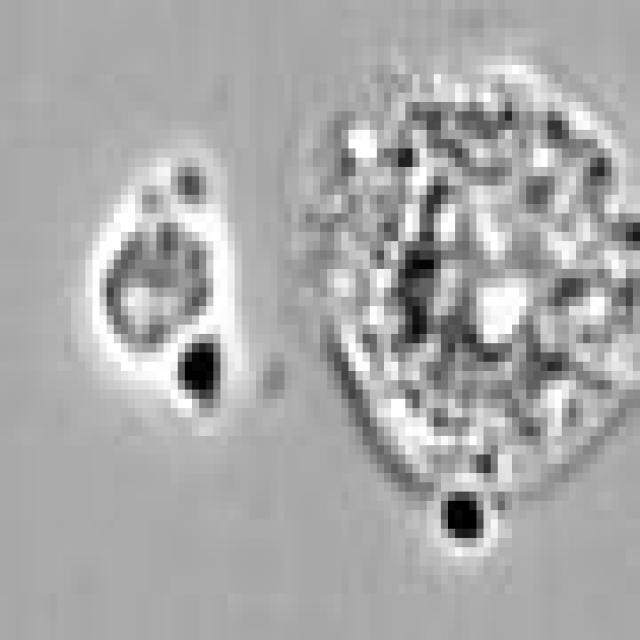Cancer Cell: (320, 56, 640, 501)
WBC: (100, 214, 220, 352)
